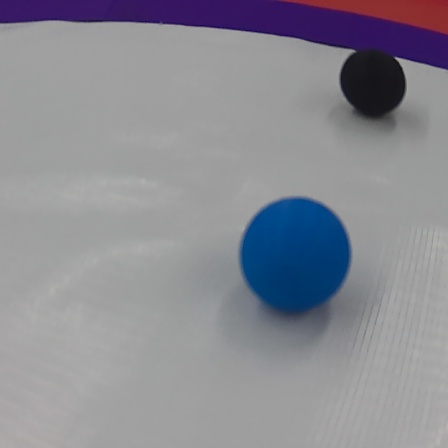black: (337, 45, 412, 125)
blue: (232, 194, 358, 315)
red_aim: (0, 0, 445, 77)
